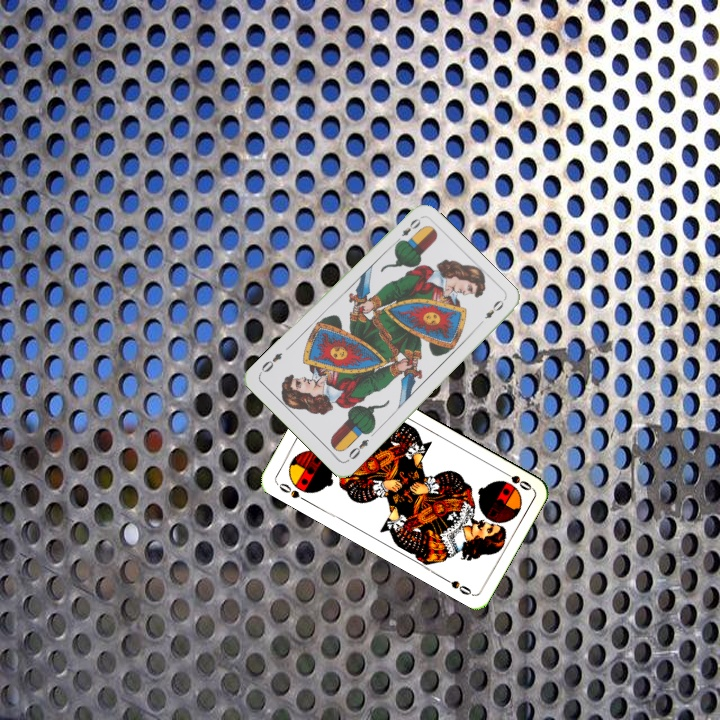EO: (391, 214, 423, 247), (342, 435, 371, 464)
SO: (497, 466, 534, 493), (273, 479, 310, 505)
